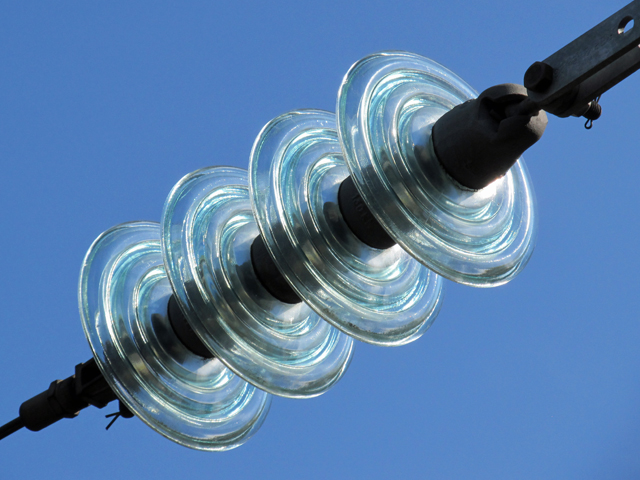isolator: (76, 49, 539, 453)
